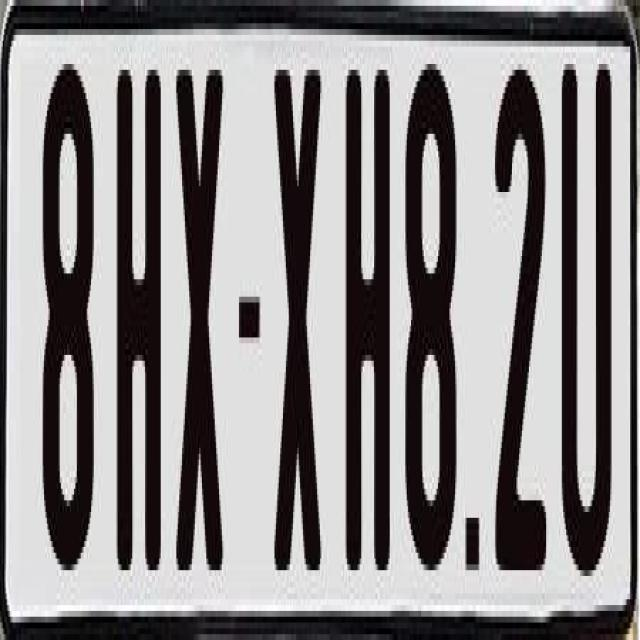2: (494, 64, 546, 594)
8: (41, 46, 98, 588), (404, 58, 458, 576)
H: (112, 52, 162, 558), (343, 64, 388, 570)
U: (559, 58, 610, 570)
X: (274, 70, 330, 582), (174, 70, 223, 576)
